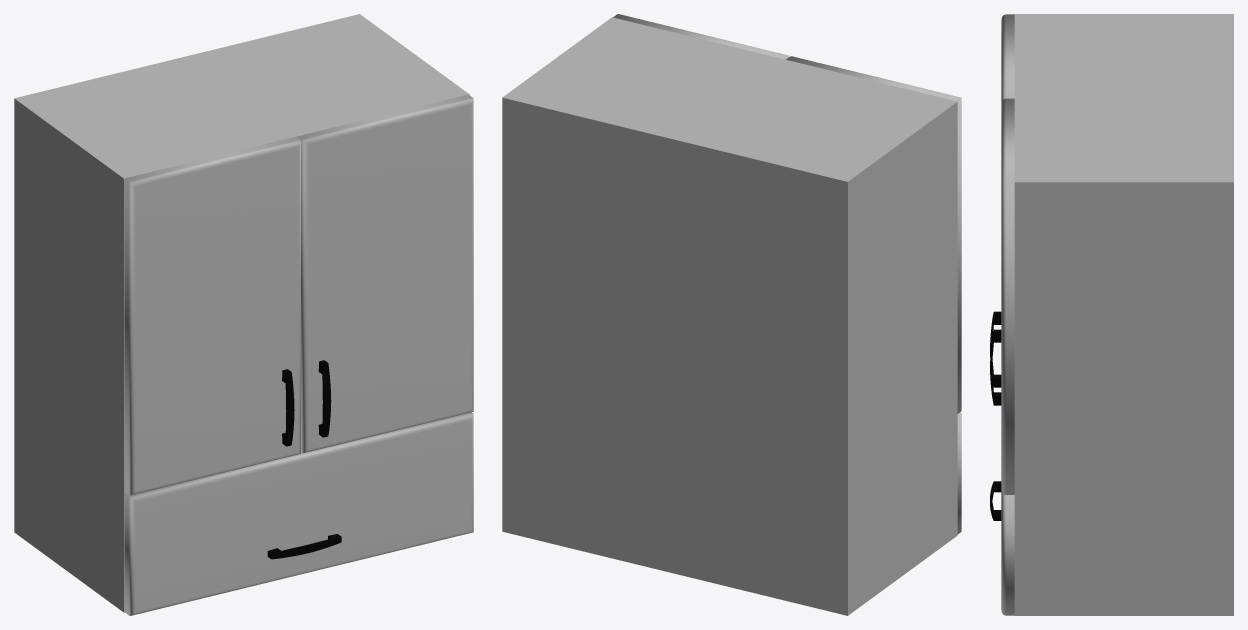
File: mdk60.glb
The picture shows the model from 3 angles, left to right: view 1: azimuth 30°, elevation 25°; view 2: azimuth 150°, elevation 25°; view 3: azimuth 270°, elevation 25°; orthographic projection.
Visible parts, largest first — view 1: Box001, Box011, Box012, Box013, Obj3d66-503491-2-345, Obj3d66-503491-2-346, Obj3d66-503491-2-344; view 2: Box001, Box011, Box012; view 3: Box001, Box012, Box013, Box011, Obj3d66-503491-2-345, Obj3d66-503491-2-344.
Boxes of the visible parts, x1,y1,x2,y2 form: Box001: (14, 14, 469, 612); Box011: (124, 136, 300, 495); Box012: (297, 94, 473, 453); Box013: (124, 412, 473, 615); Obj3d66-503491-2-345: (318, 360, 331, 437); Obj3d66-503491-2-346: (267, 534, 341, 559); Obj3d66-503491-2-344: (282, 369, 294, 446); Box001: (502, 17, 957, 615); Box011: (786, 56, 961, 413); Box012: (613, 14, 788, 59); Box001: (1014, 14, 1233, 615); Box012: (1001, 98, 1014, 494); Box013: (1001, 490, 1014, 615); Box011: (1001, 14, 1014, 103); Obj3d66-503491-2-345: (990, 329, 1001, 405); Obj3d66-503491-2-344: (990, 311, 1001, 387).
Size of the model in its own units: 0.6 by 0.72 by 0.3671.
2 materials, 1 textured.
